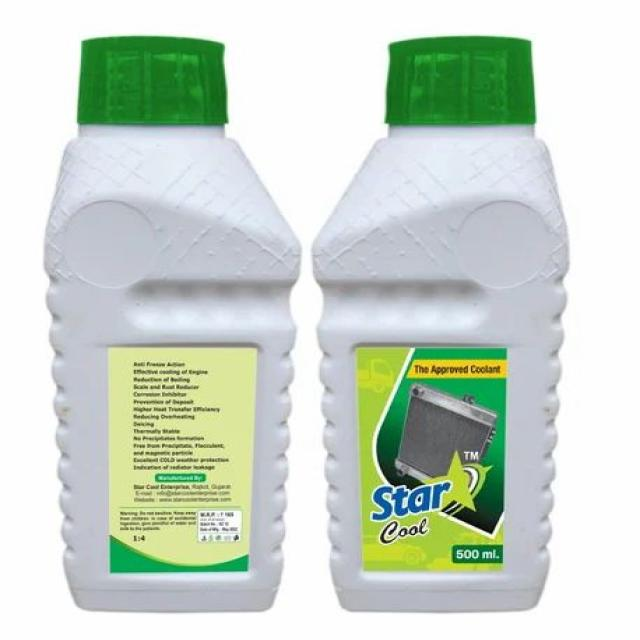coolant: (316, 33, 564, 622), (51, 32, 297, 618)
